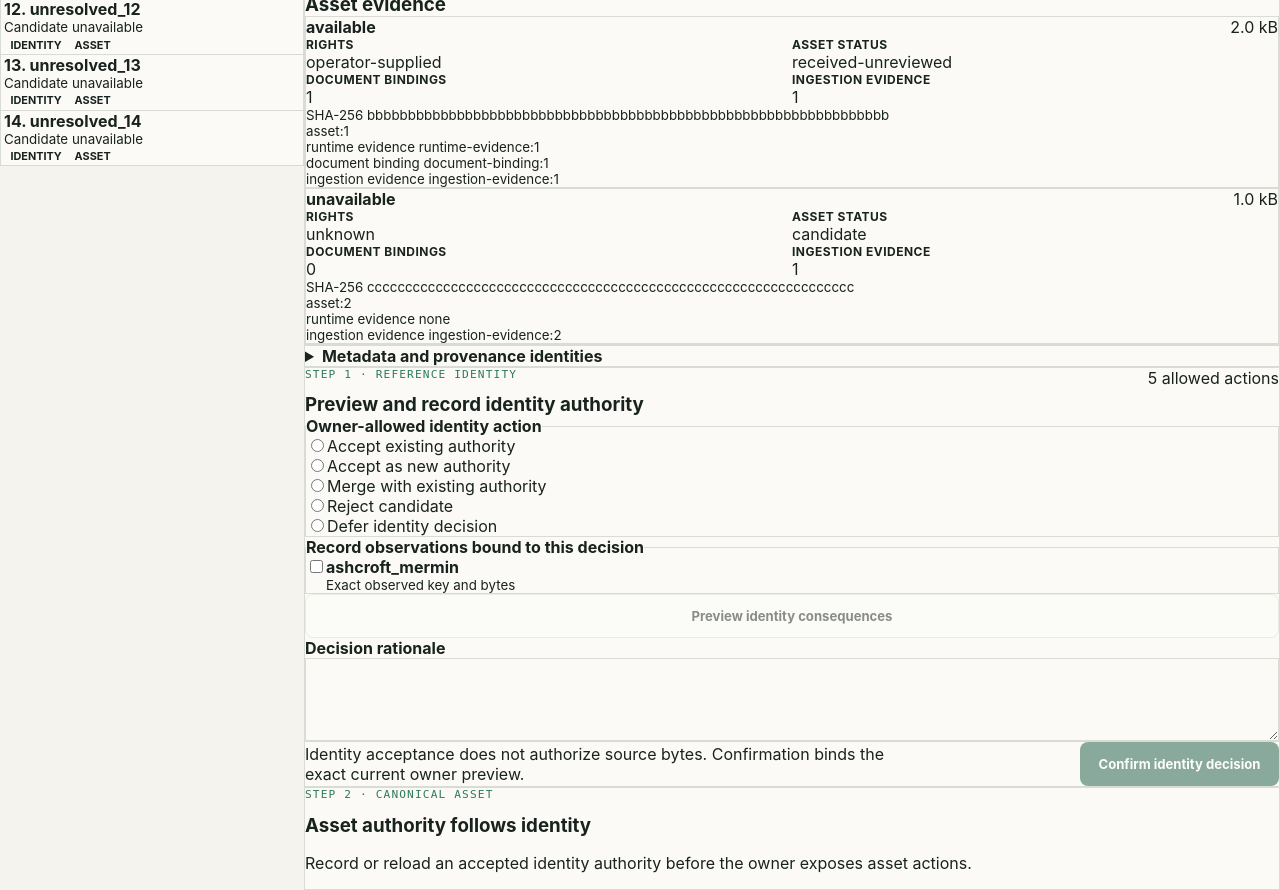
Test: discards a preview and reports a typed stale decision
(page scrolled)
Click the radio button labelled "Accept as new authority": click(318, 466) [311,459,324,472]
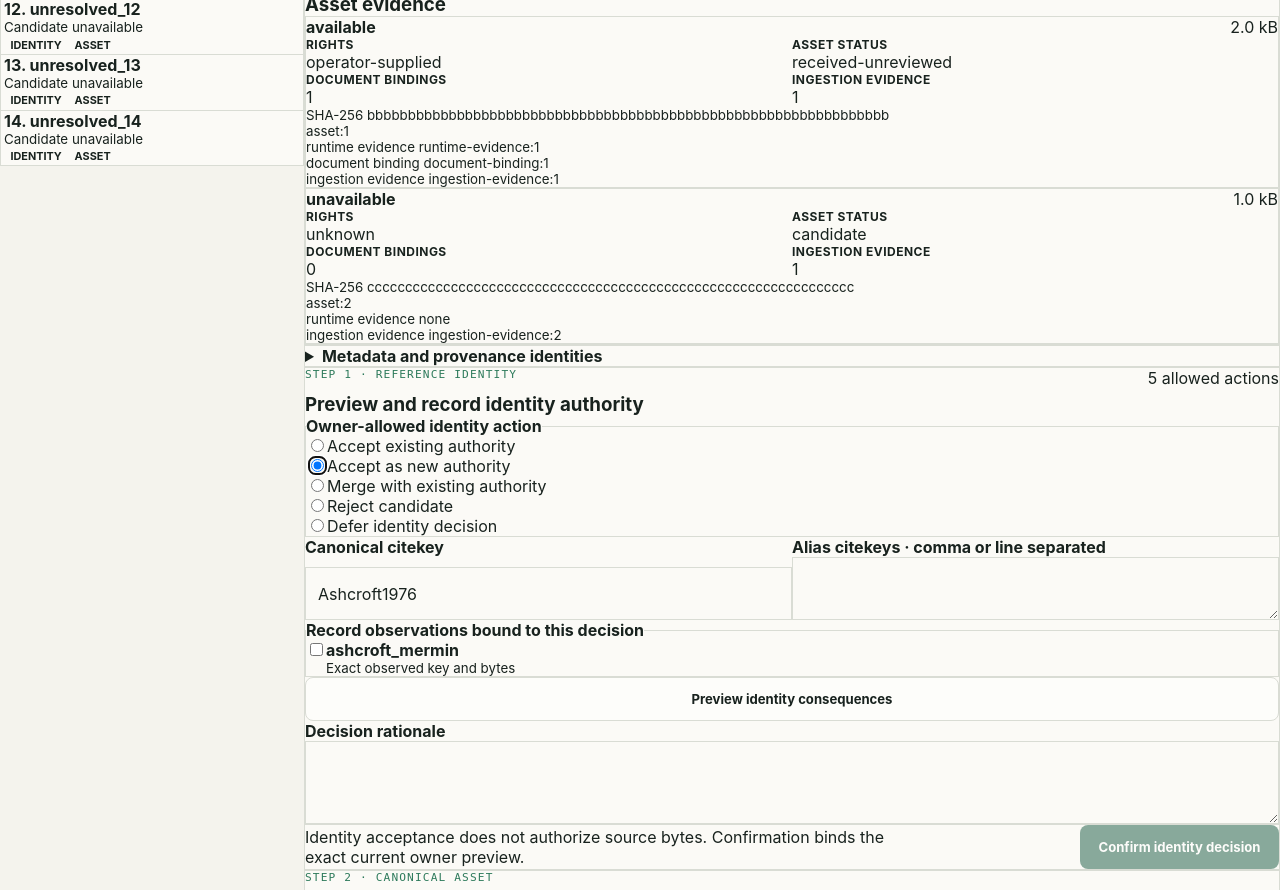
Click the checkbox labelled "ashcroft_mermin Exact observed key and bytes": click(316, 650) [310,643,323,656]
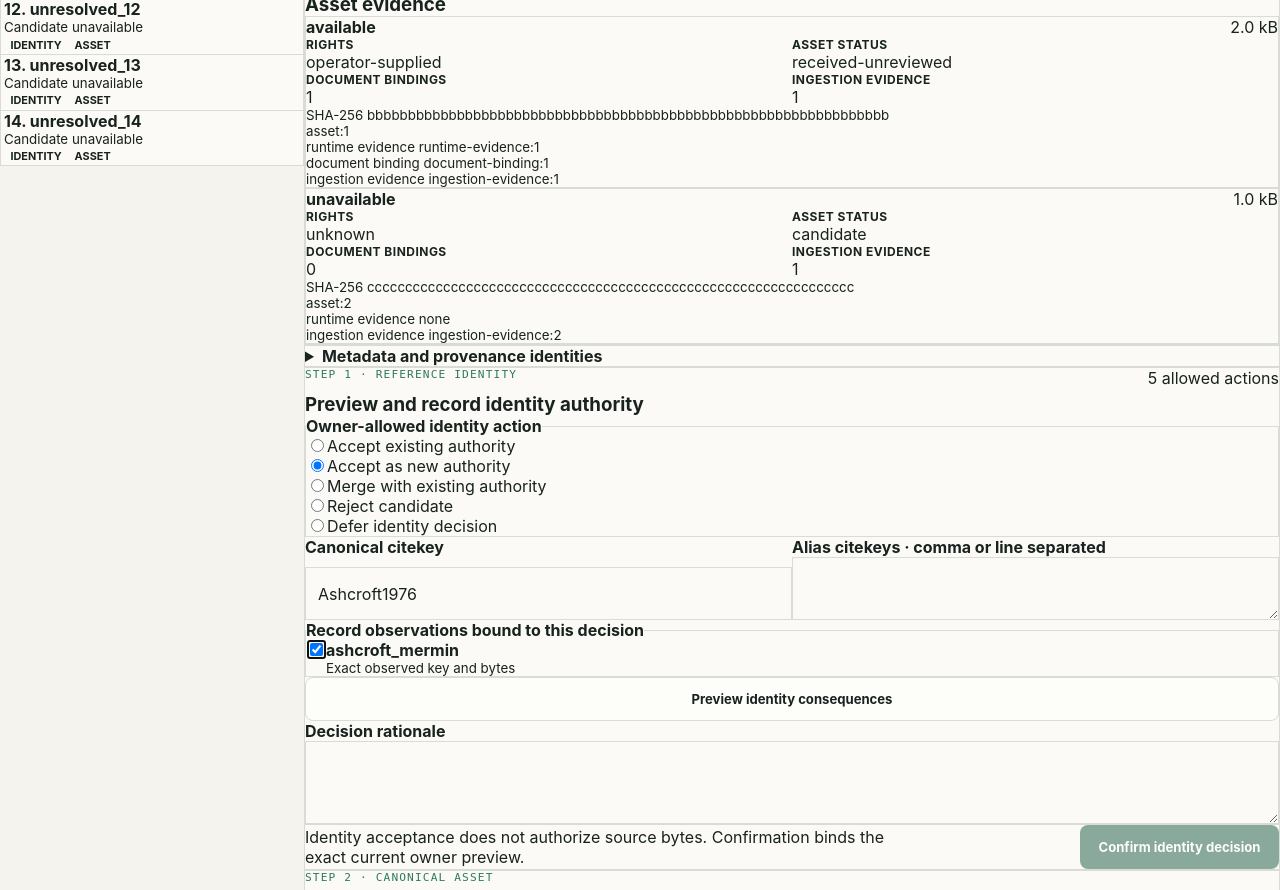
In the text box labelled "Decision rationale": (792, 782) [305,741,1279,824], type "Reviewed evidence."
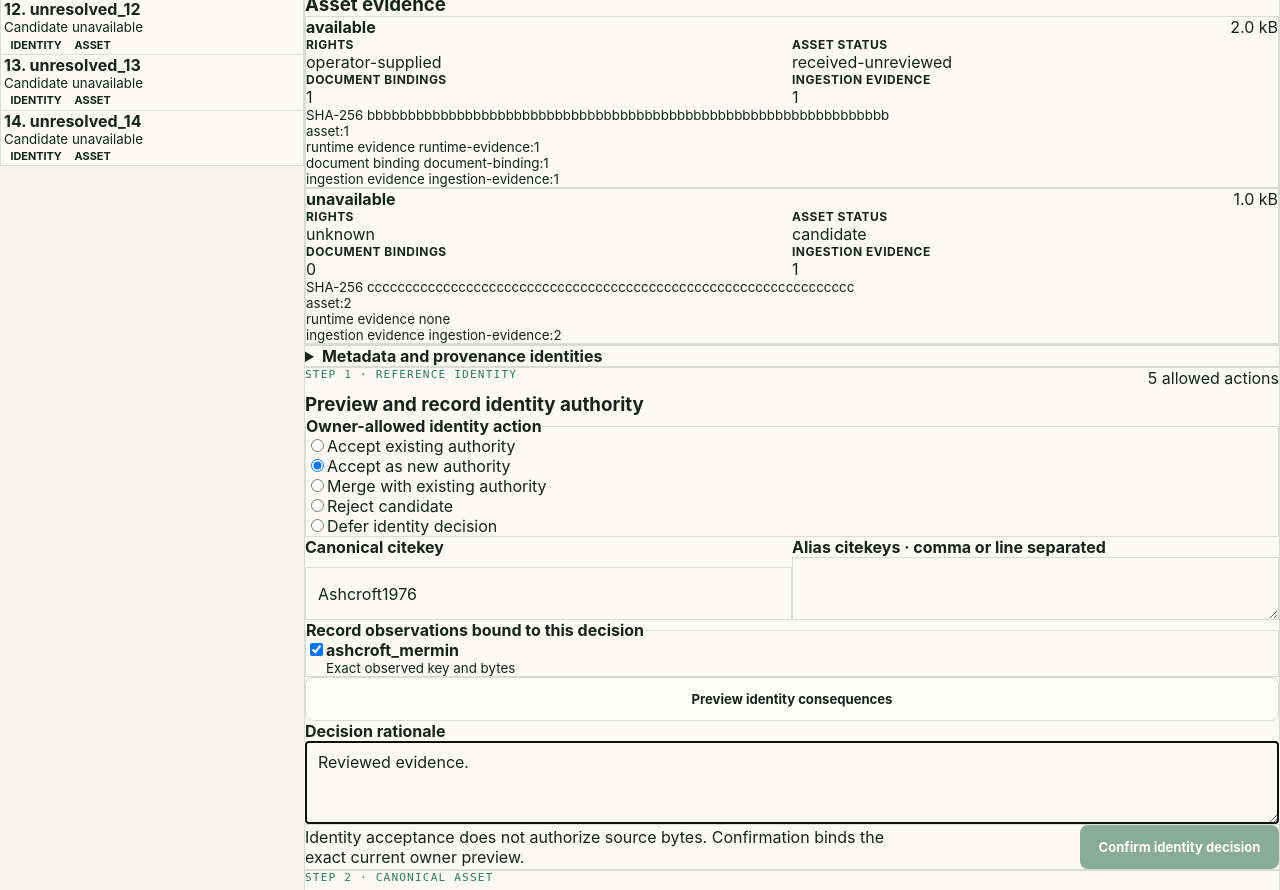
Click the button "Preview identity consequences": click(792, 699) [305,677,1279,721]
(page scrolled)
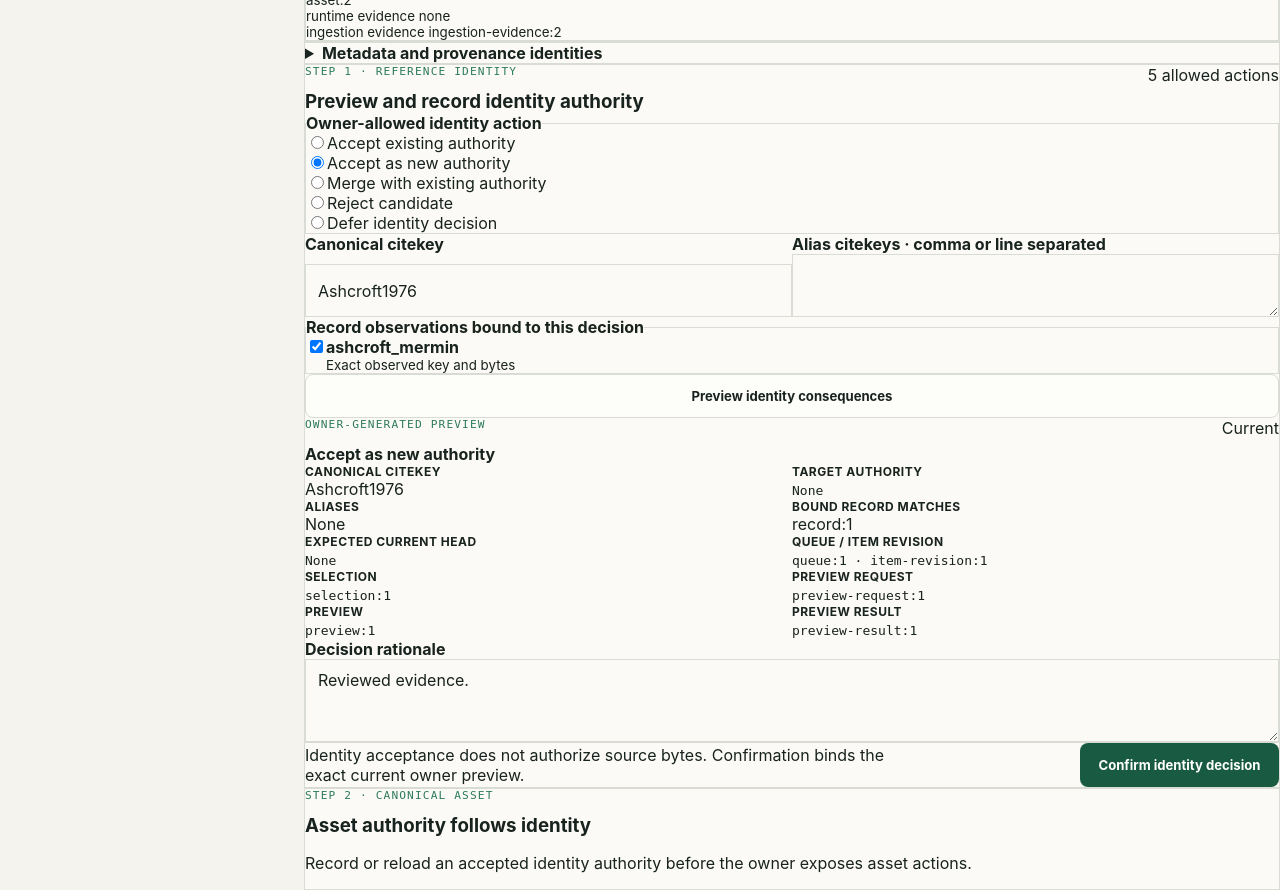
Check: the element named "Owner-generated identity preview" is shown, box [305,418,1279,639]
Click the button "Confirm identity decision": click(1179, 765) [1080,743,1279,787]
(page scrolled)
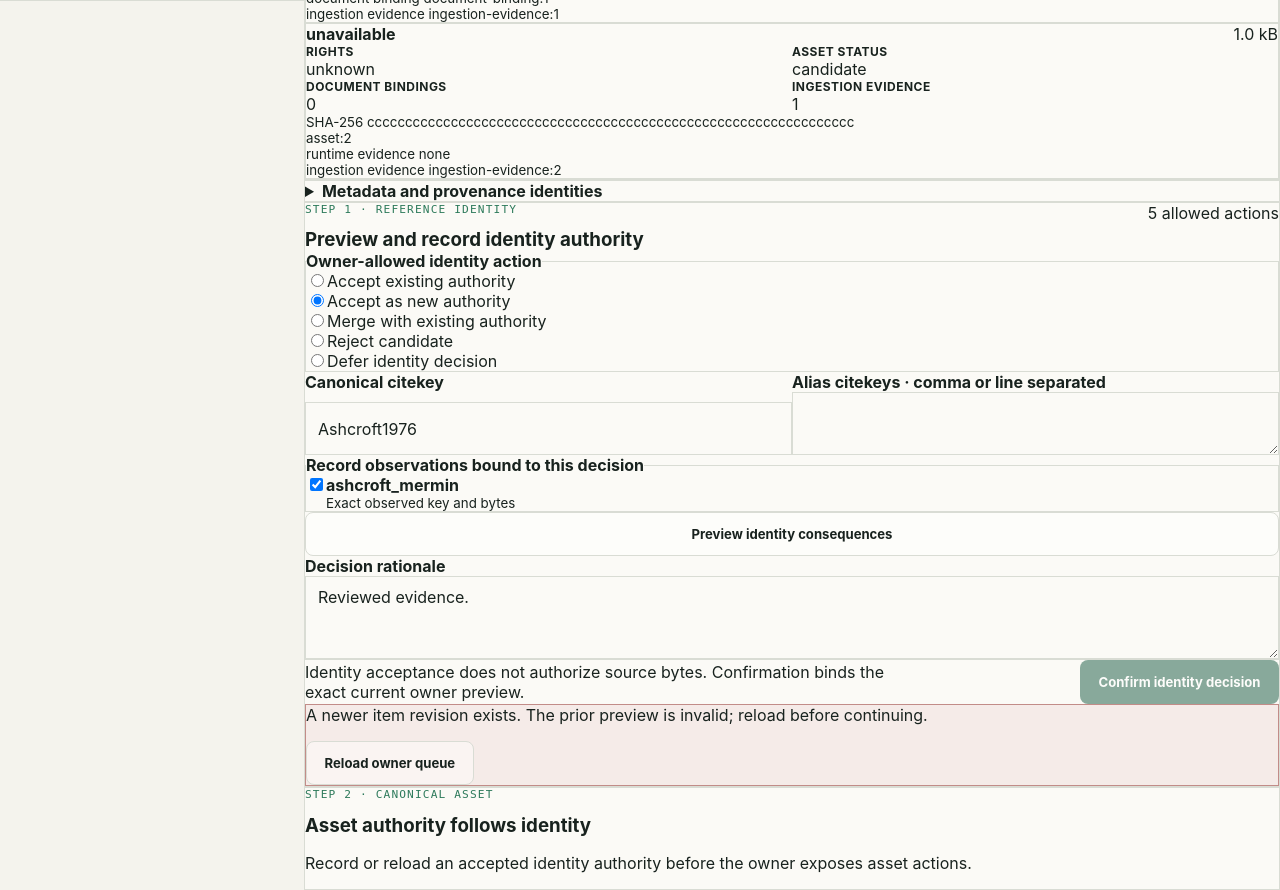
Check: the text "A newer item revision exists" is shown, box [306,705,928,725]
